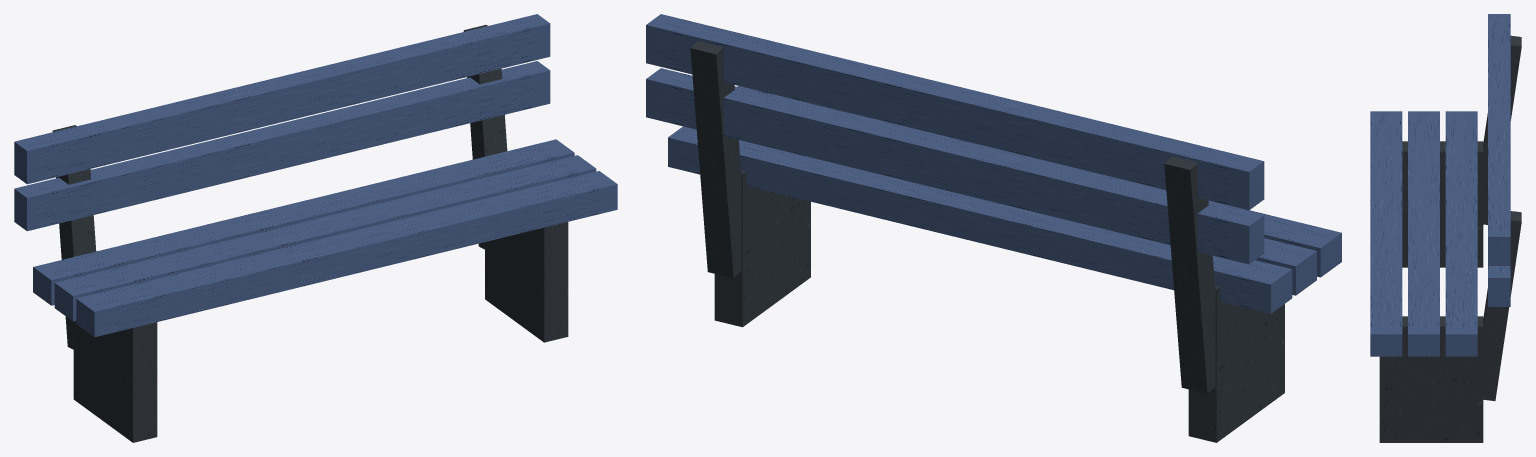
File: Bench.fbx
3 views of the same model, side by side, from view 1: azimuth 30°, elevation 25°; view 2: azimuth 150°, elevation 25°; view 3: azimuth 270°, elevation 25° (orthographic). The views are drawn at different scales.
Parts seen in each view (by area): view 1: Bench; view 2: Bench; view 3: Bench.
Part boxes in pixels (left/top/right/bottom): Bench: left=14, top=14, right=617, bottom=442; Bench: left=646, top=14, right=1341, bottom=442; Bench: left=1370, top=14, right=1521, bottom=442.
Bounding box in the file's own units: 280 × 132 × 80.45.
